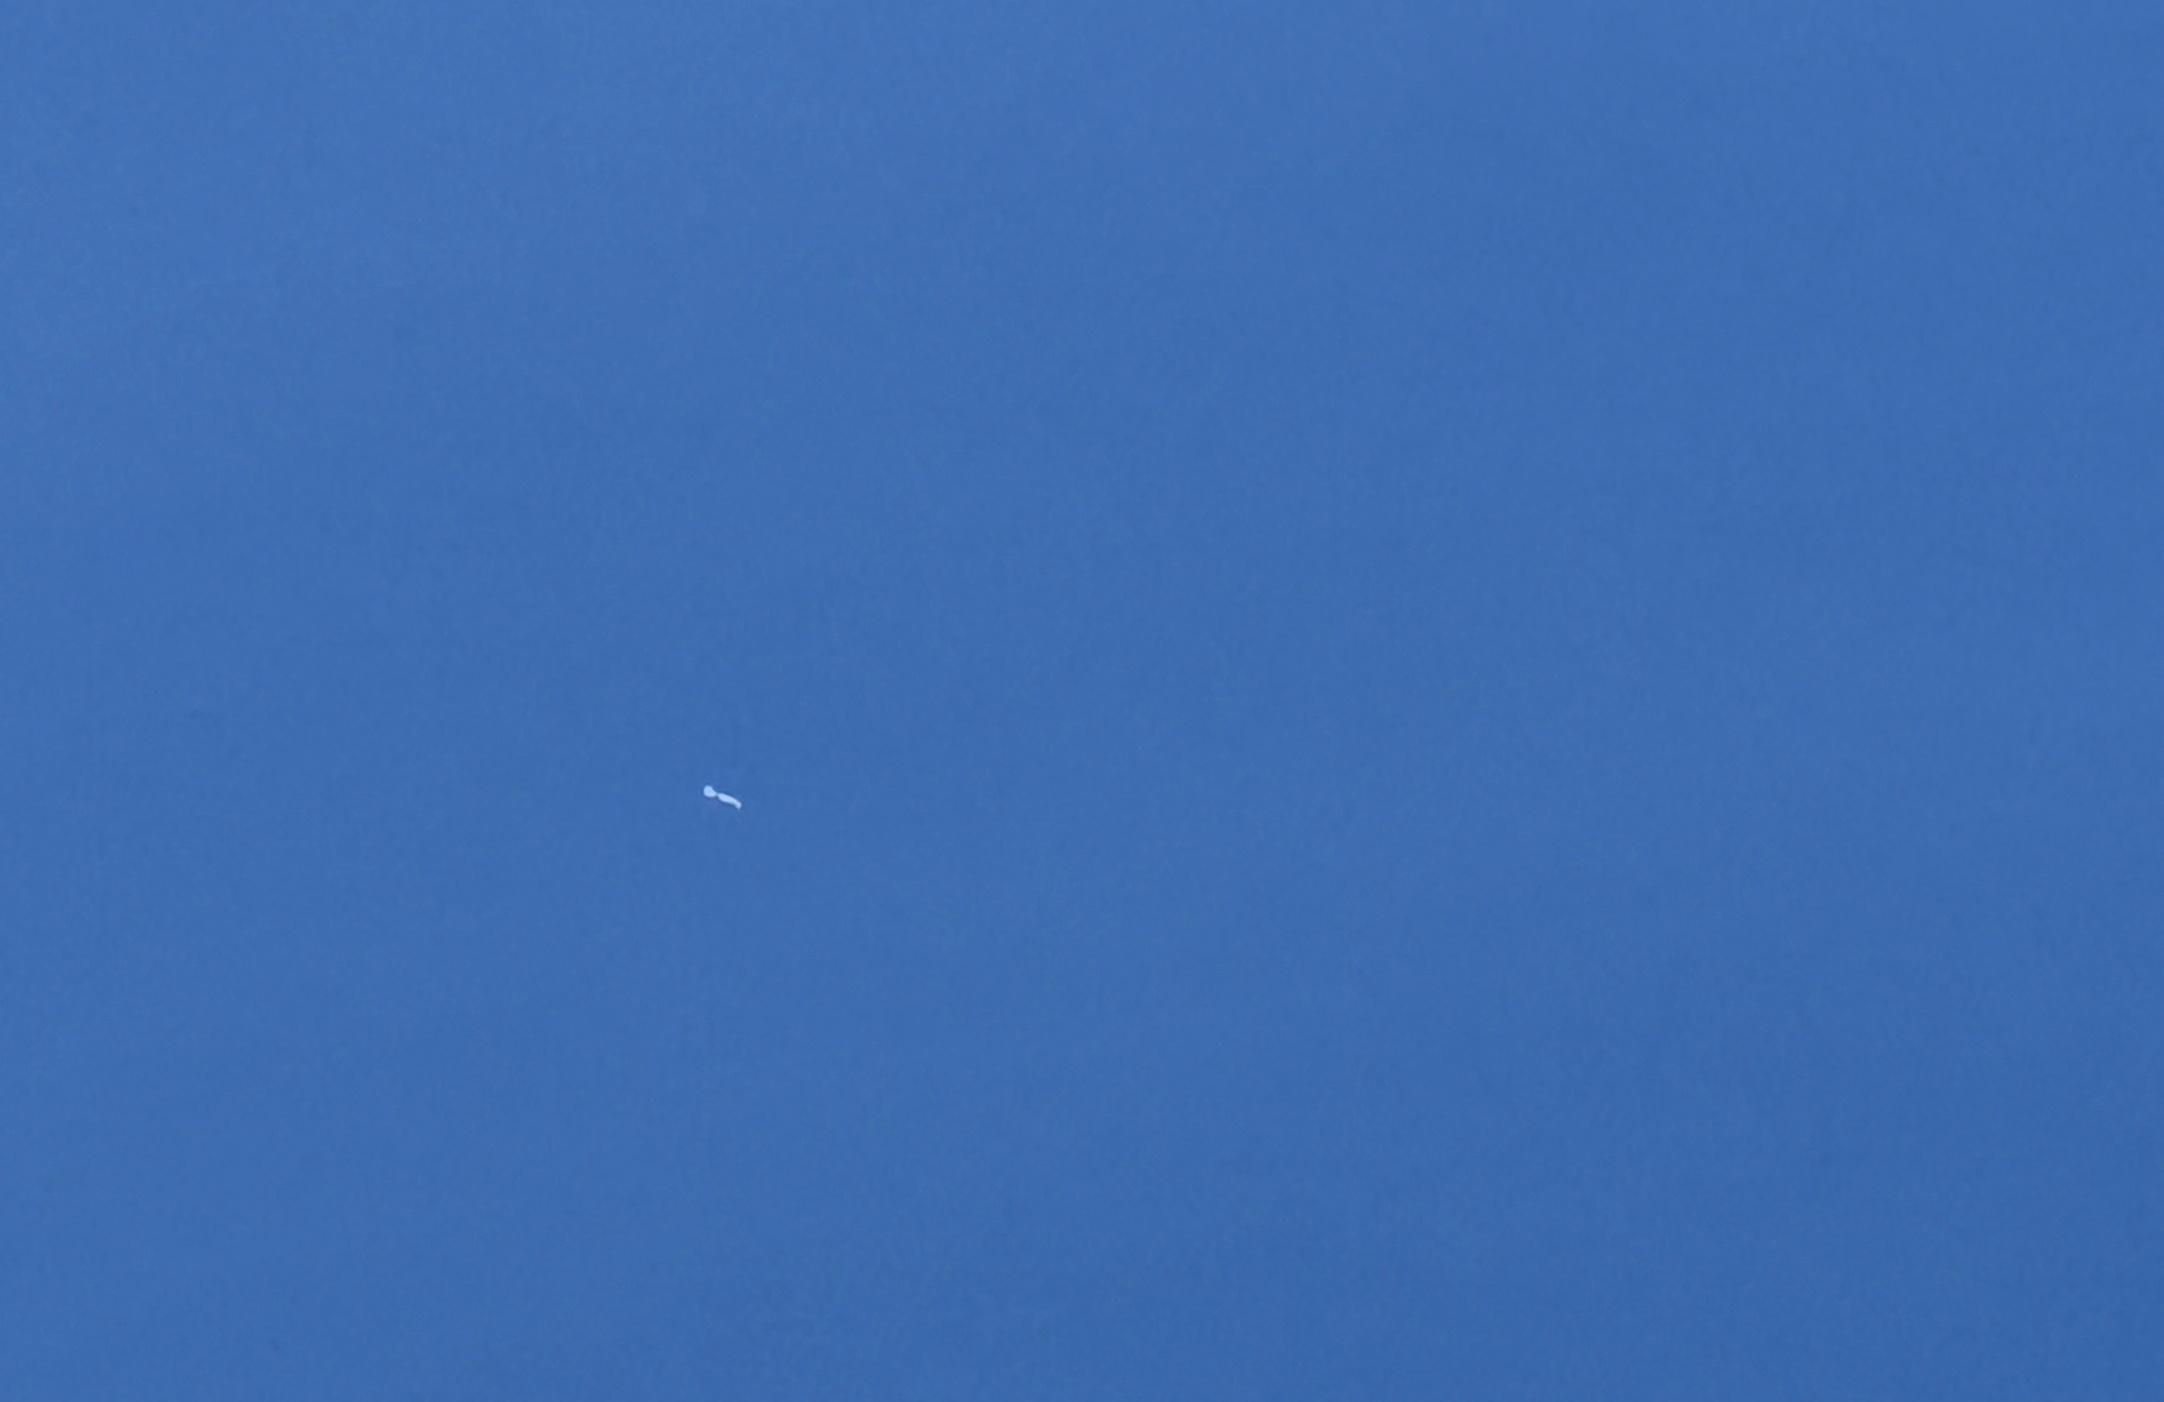Plane: (675, 773, 789, 834)
